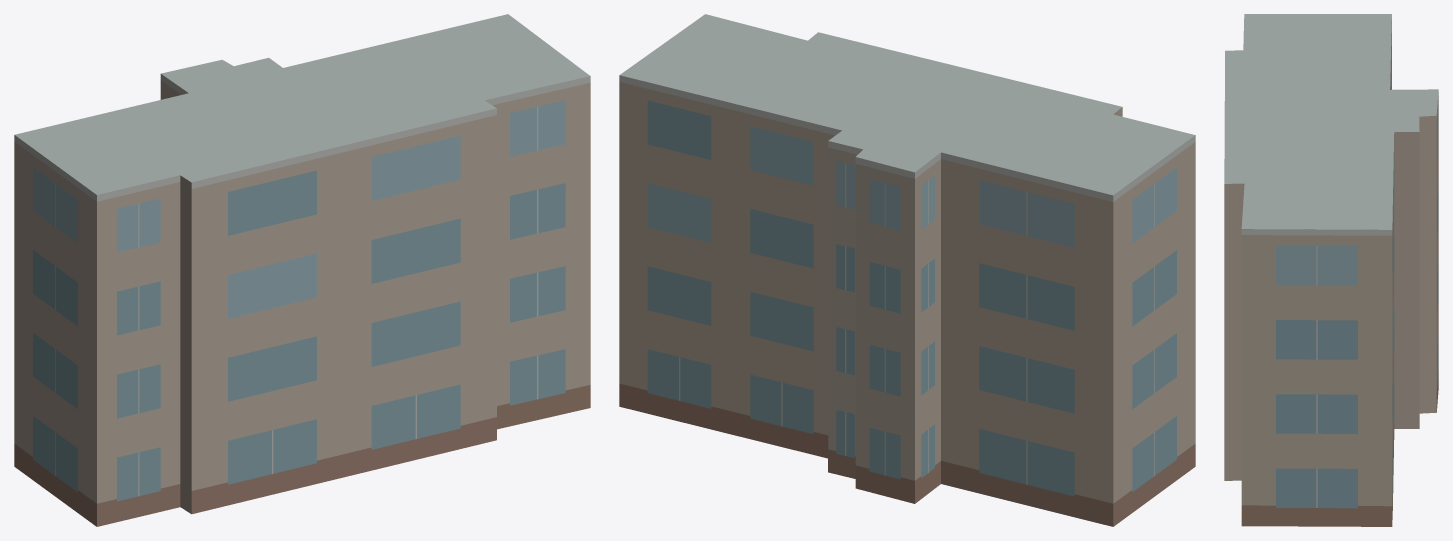
File: survey-upis-33008647.glb
3 renders of one model, left to right at view 1: azimuth 30°, elevation 25°; view 2: azimuth 150°, elevation 25°; view 3: azimuth 270°, elevation 25°, orthographic. The views are drawn at different scales.
Parts seen in each view (by area): view 1: survey-upis-33008647.tmp; view 2: survey-upis-33008647.tmp; view 3: survey-upis-33008647.tmp.
Part boxes in pixels (bbox=[...]): survey-upis-33008647.tmp: bbox=[14, 14, 590, 526]; survey-upis-33008647.tmp: bbox=[619, 14, 1195, 526]; survey-upis-33008647.tmp: bbox=[1224, 14, 1438, 526].
Bounding box in the file's own units: 19.03 × 12.2 × 7.99.
